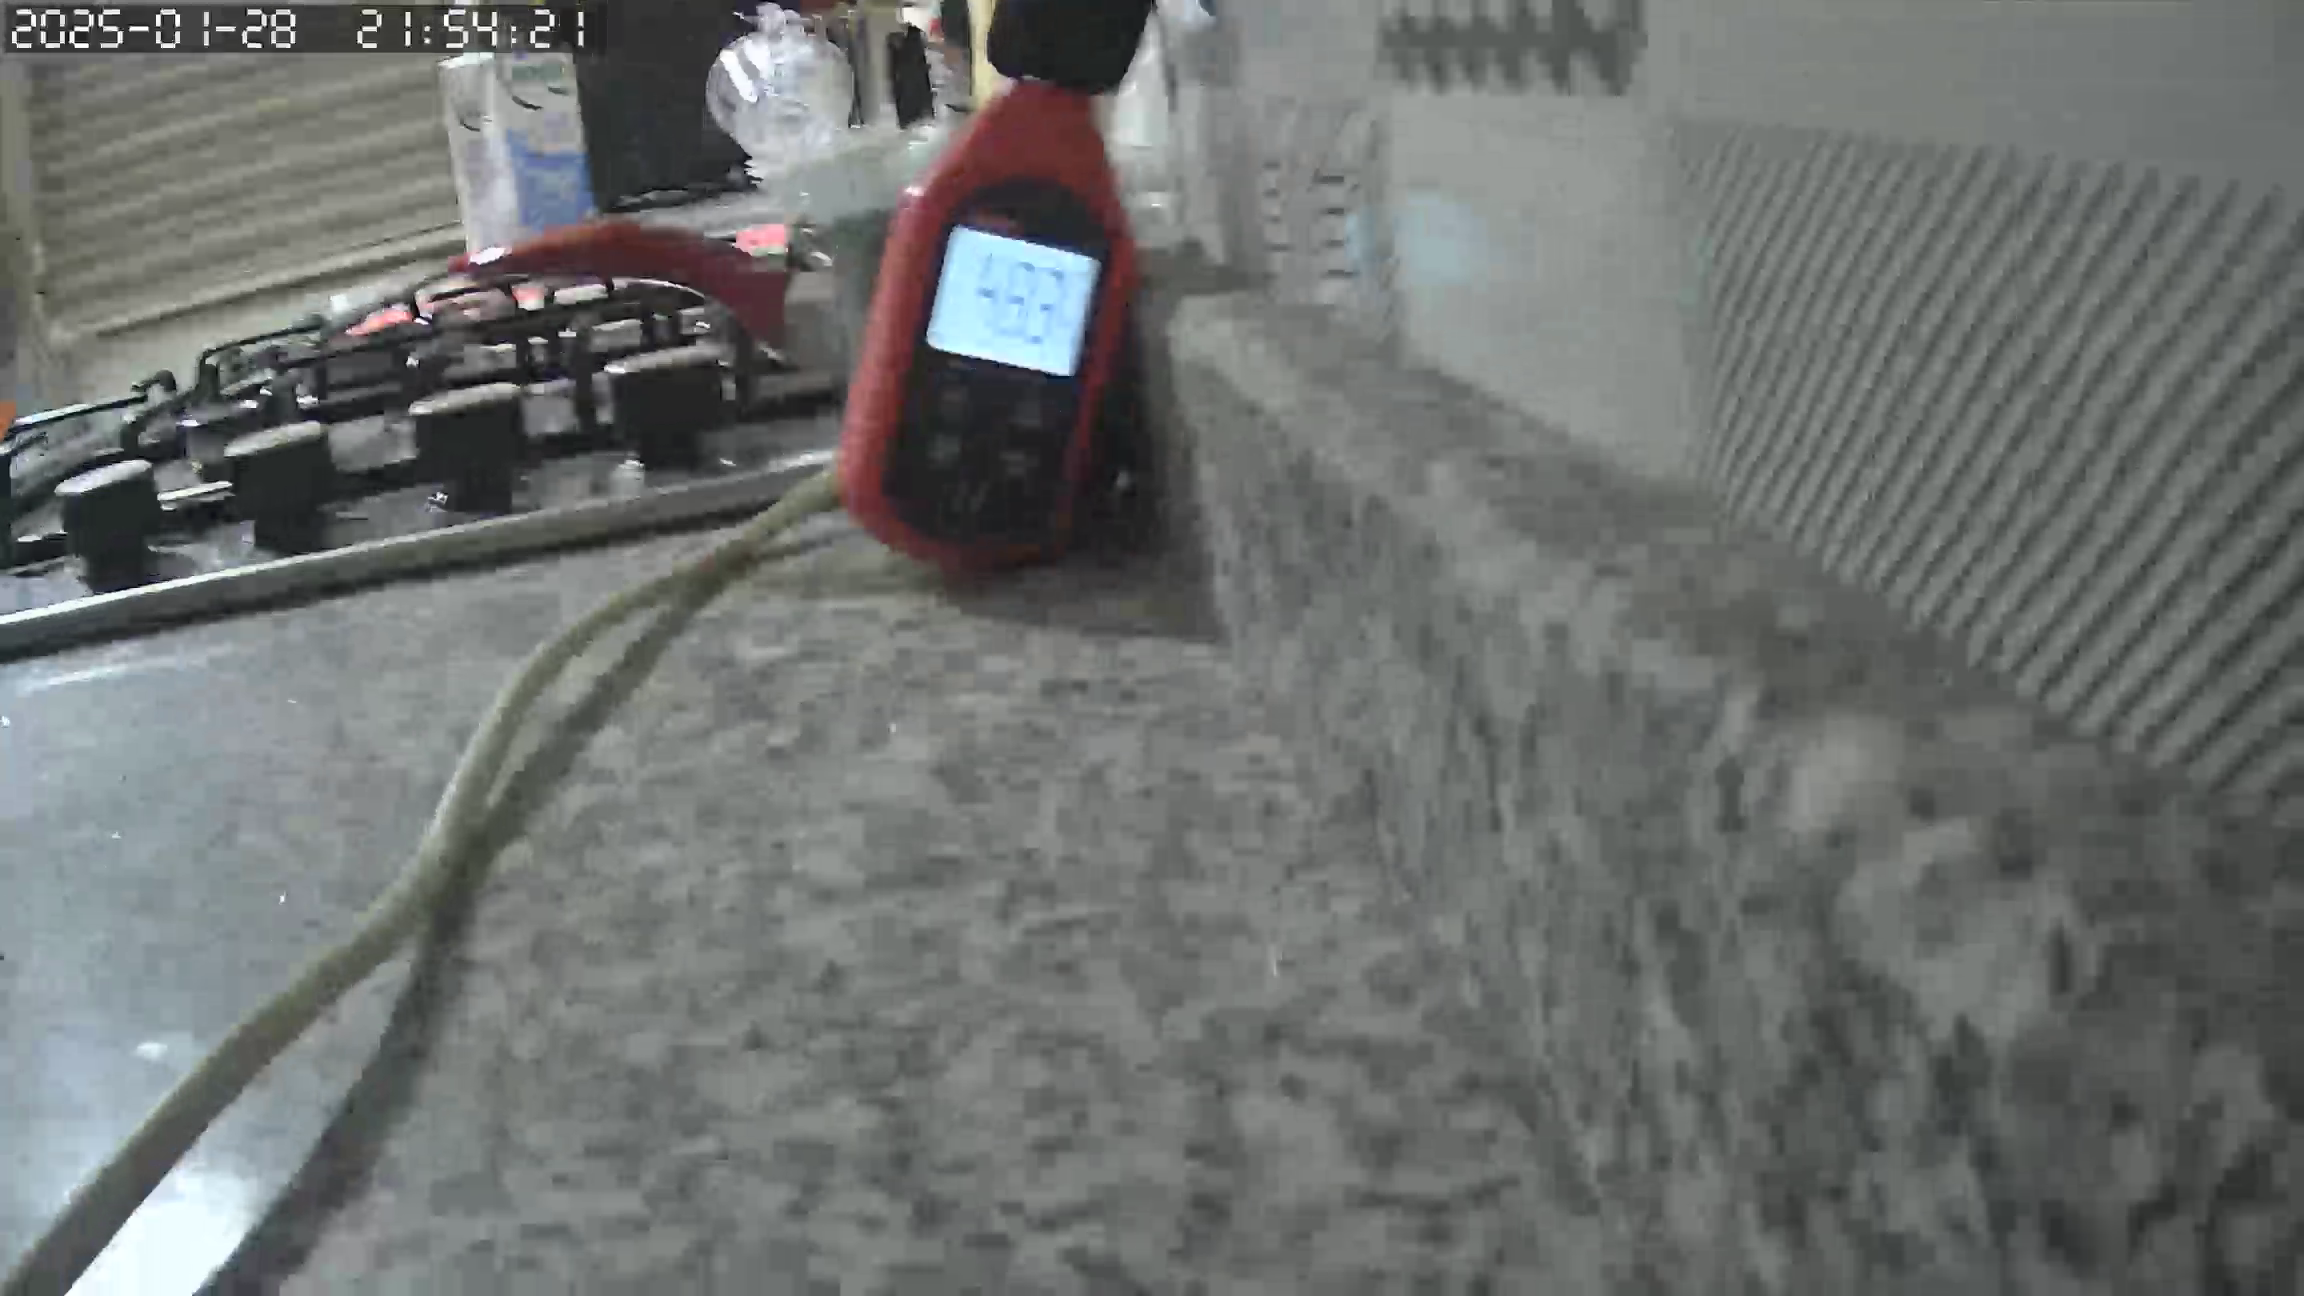screen: (924, 225, 1098, 381)
